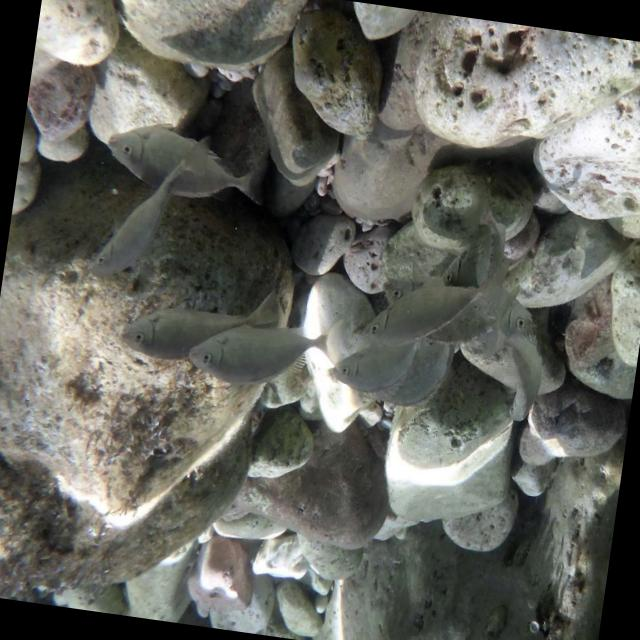Sokar Baligi: (180, 297, 338, 404)
